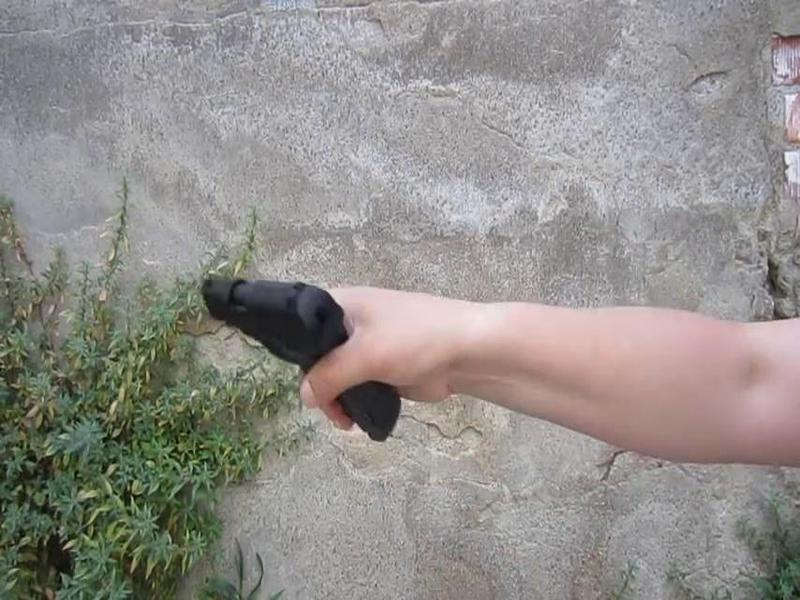Pistola: (180, 238, 403, 433)
